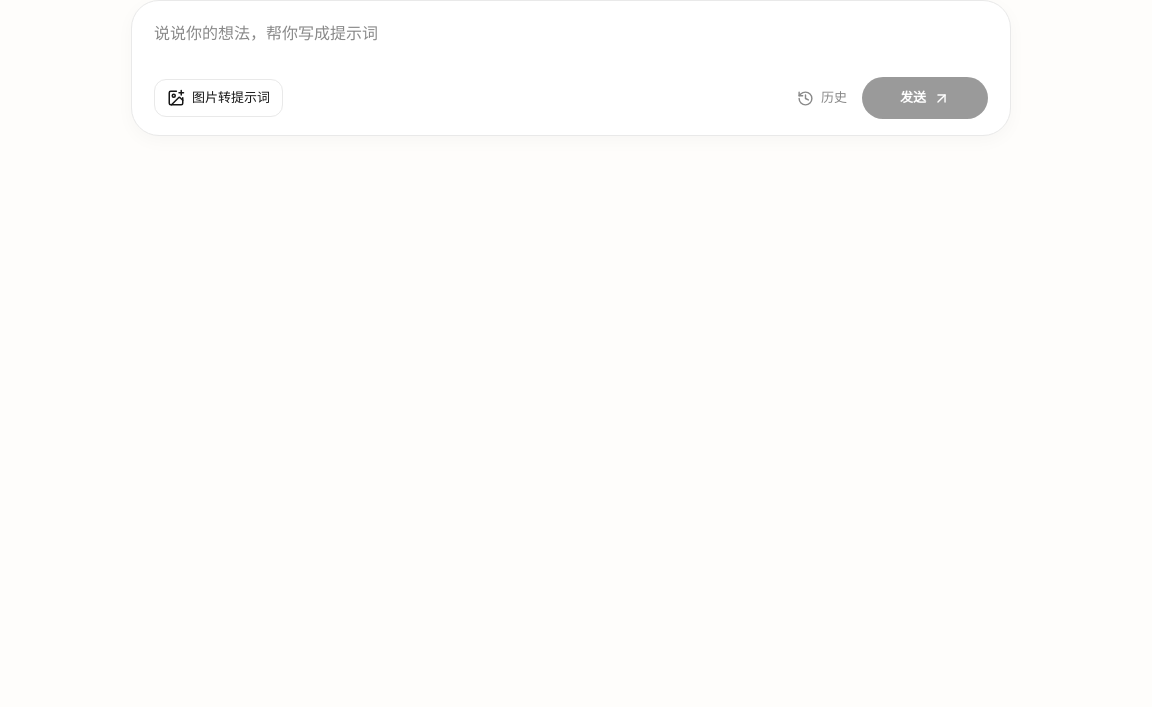
Test: real same-page creative workspace › protects a dirty edit before history navigation, then opens history on explicit discard
This screenshot has width=1152, height=707.
Click the button "历史" at point(822, 98), box [794, 80, 850, 116]
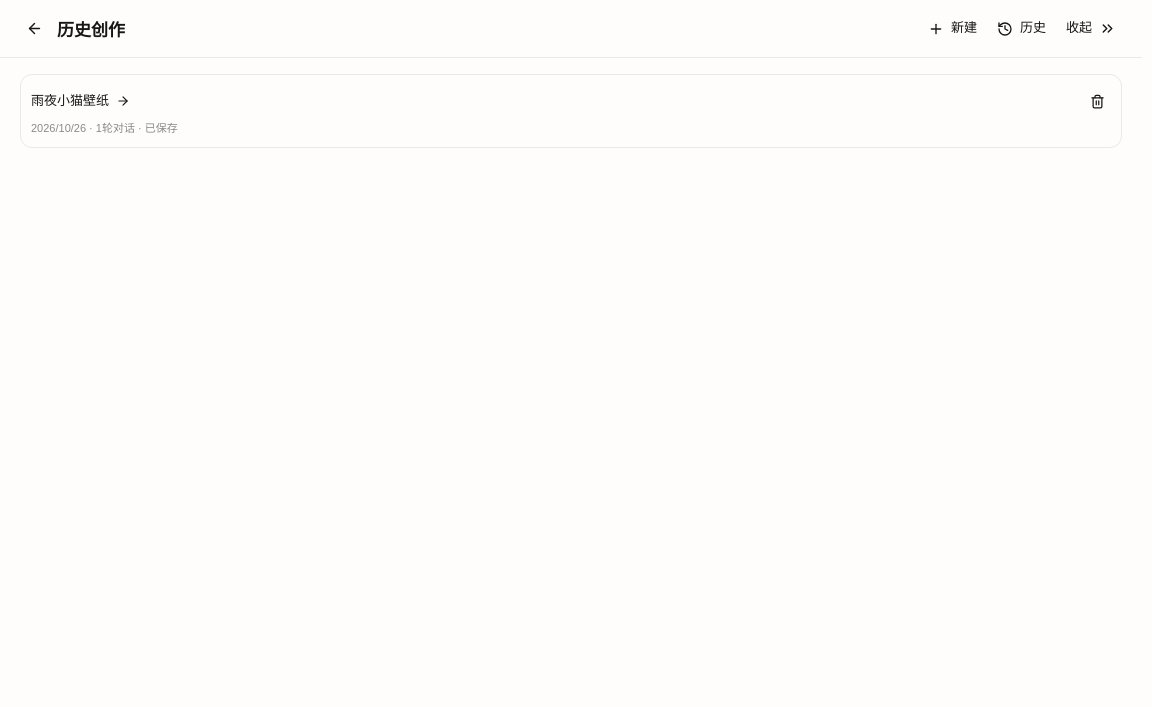
Click the button "雨夜小猫壁纸" at point(70, 100), box [31, 84, 1076, 117]
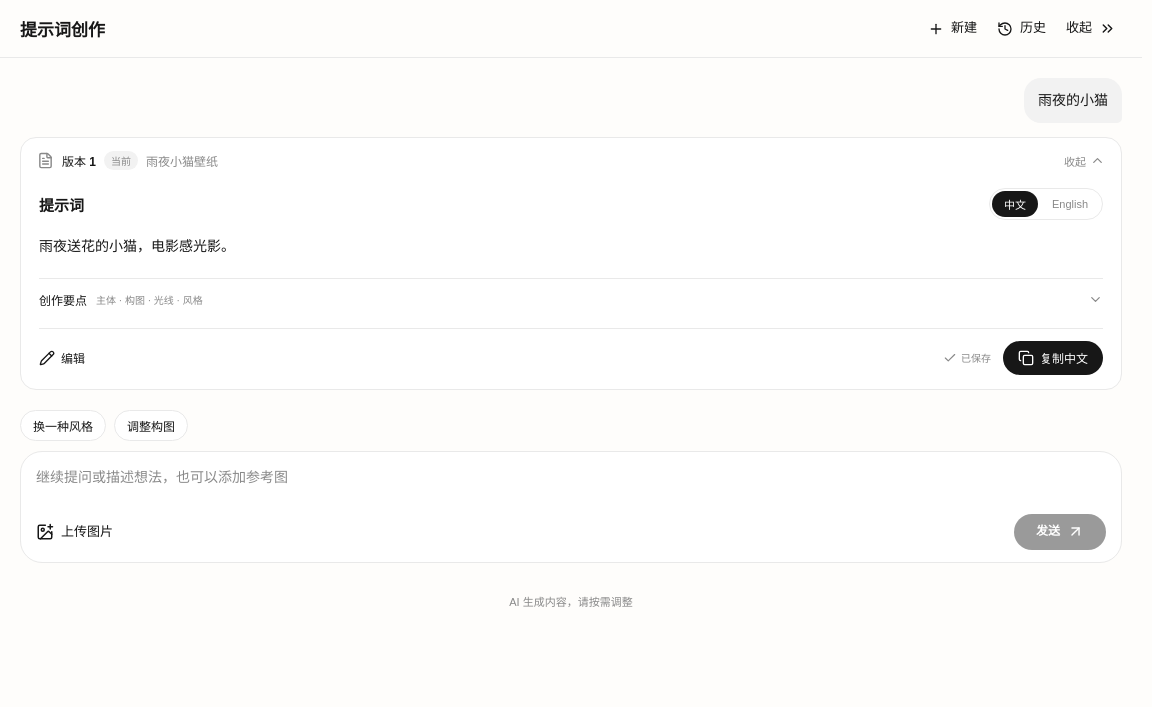
Expected: the text "雨夜送花的小猫，电影感光影。" is shown, [39, 238, 235, 254]
Click the button "编辑" at point(62, 358), box [39, 341, 85, 375]
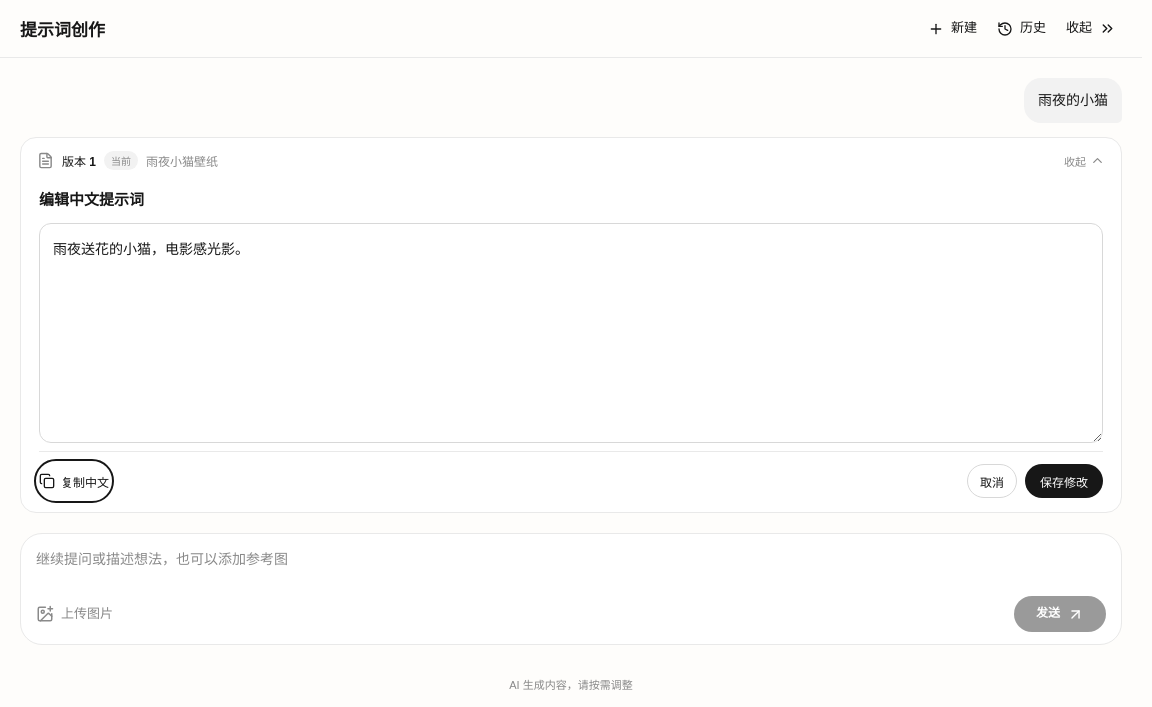
Replace the text in the text box named "编辑中文提示词" with "切换前的草稿" at point(571, 333), box [39, 223, 1103, 443]
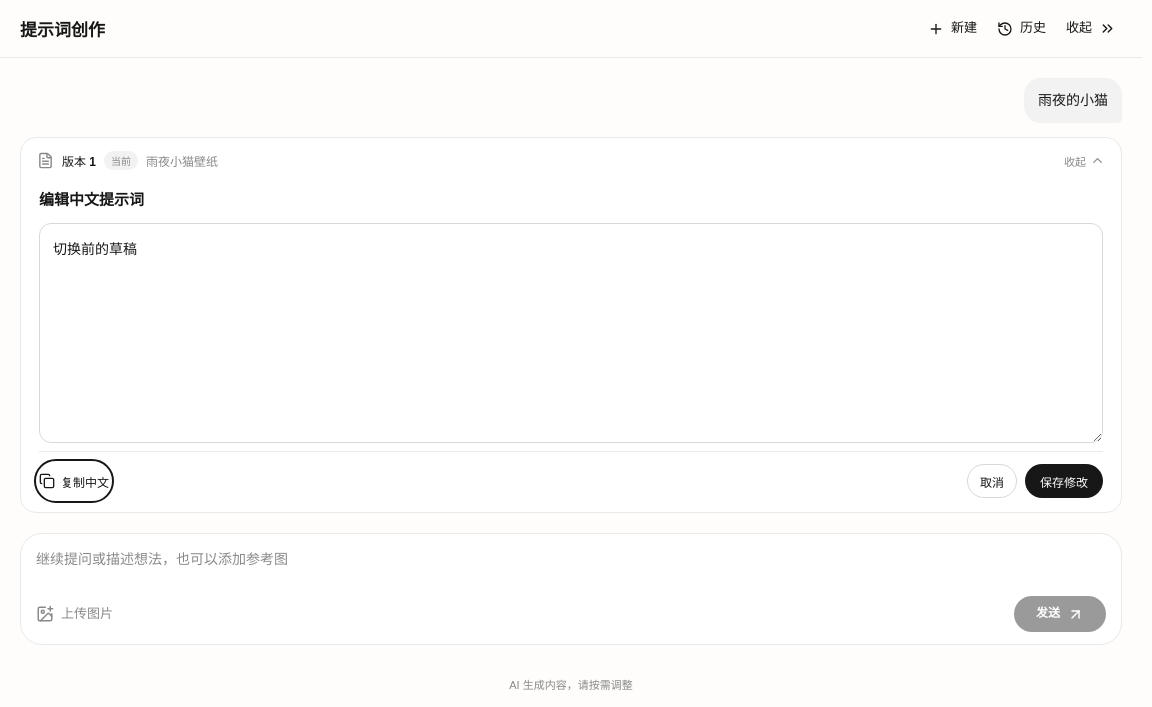
Click the button "历史" at point(1022, 28), box [991, 10, 1052, 46]
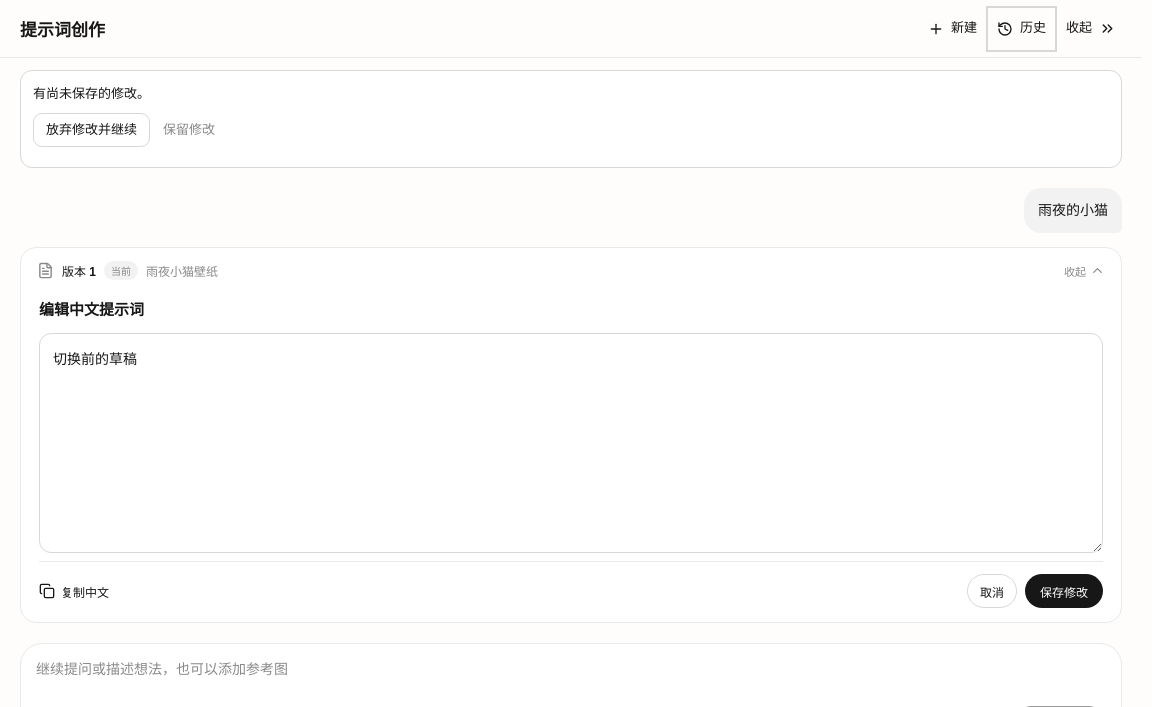
Expected: the message shows "有尚未保存的修改", [33, 86, 150, 101]
Click the button "放弃修改并继续" at point(92, 130), box [33, 113, 150, 147]
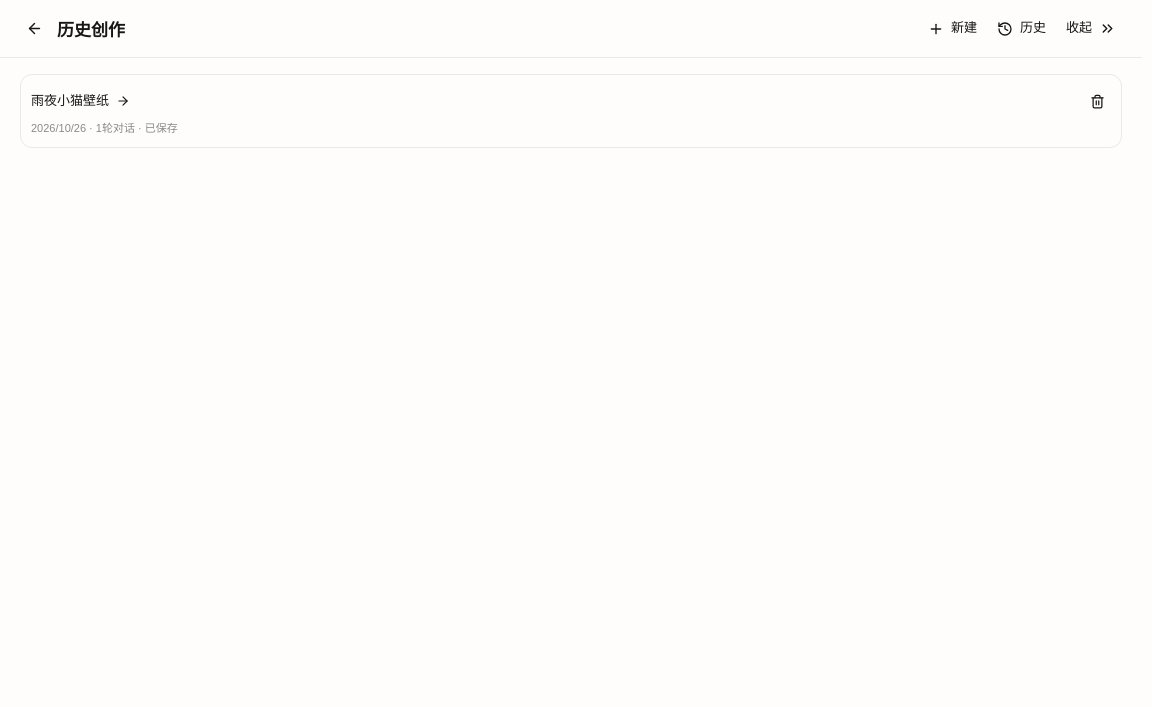
Expected: the heading "历史创作" is shown, [57, 16, 125, 41]
